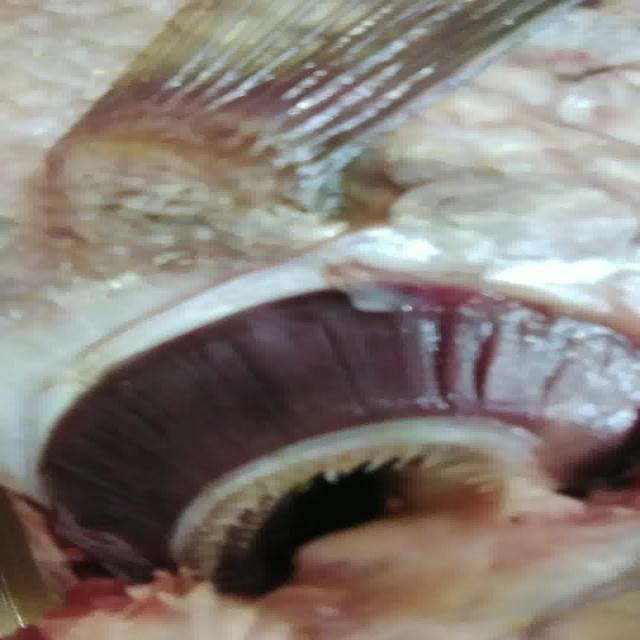Non-Fresh: (52, 274, 602, 574)
